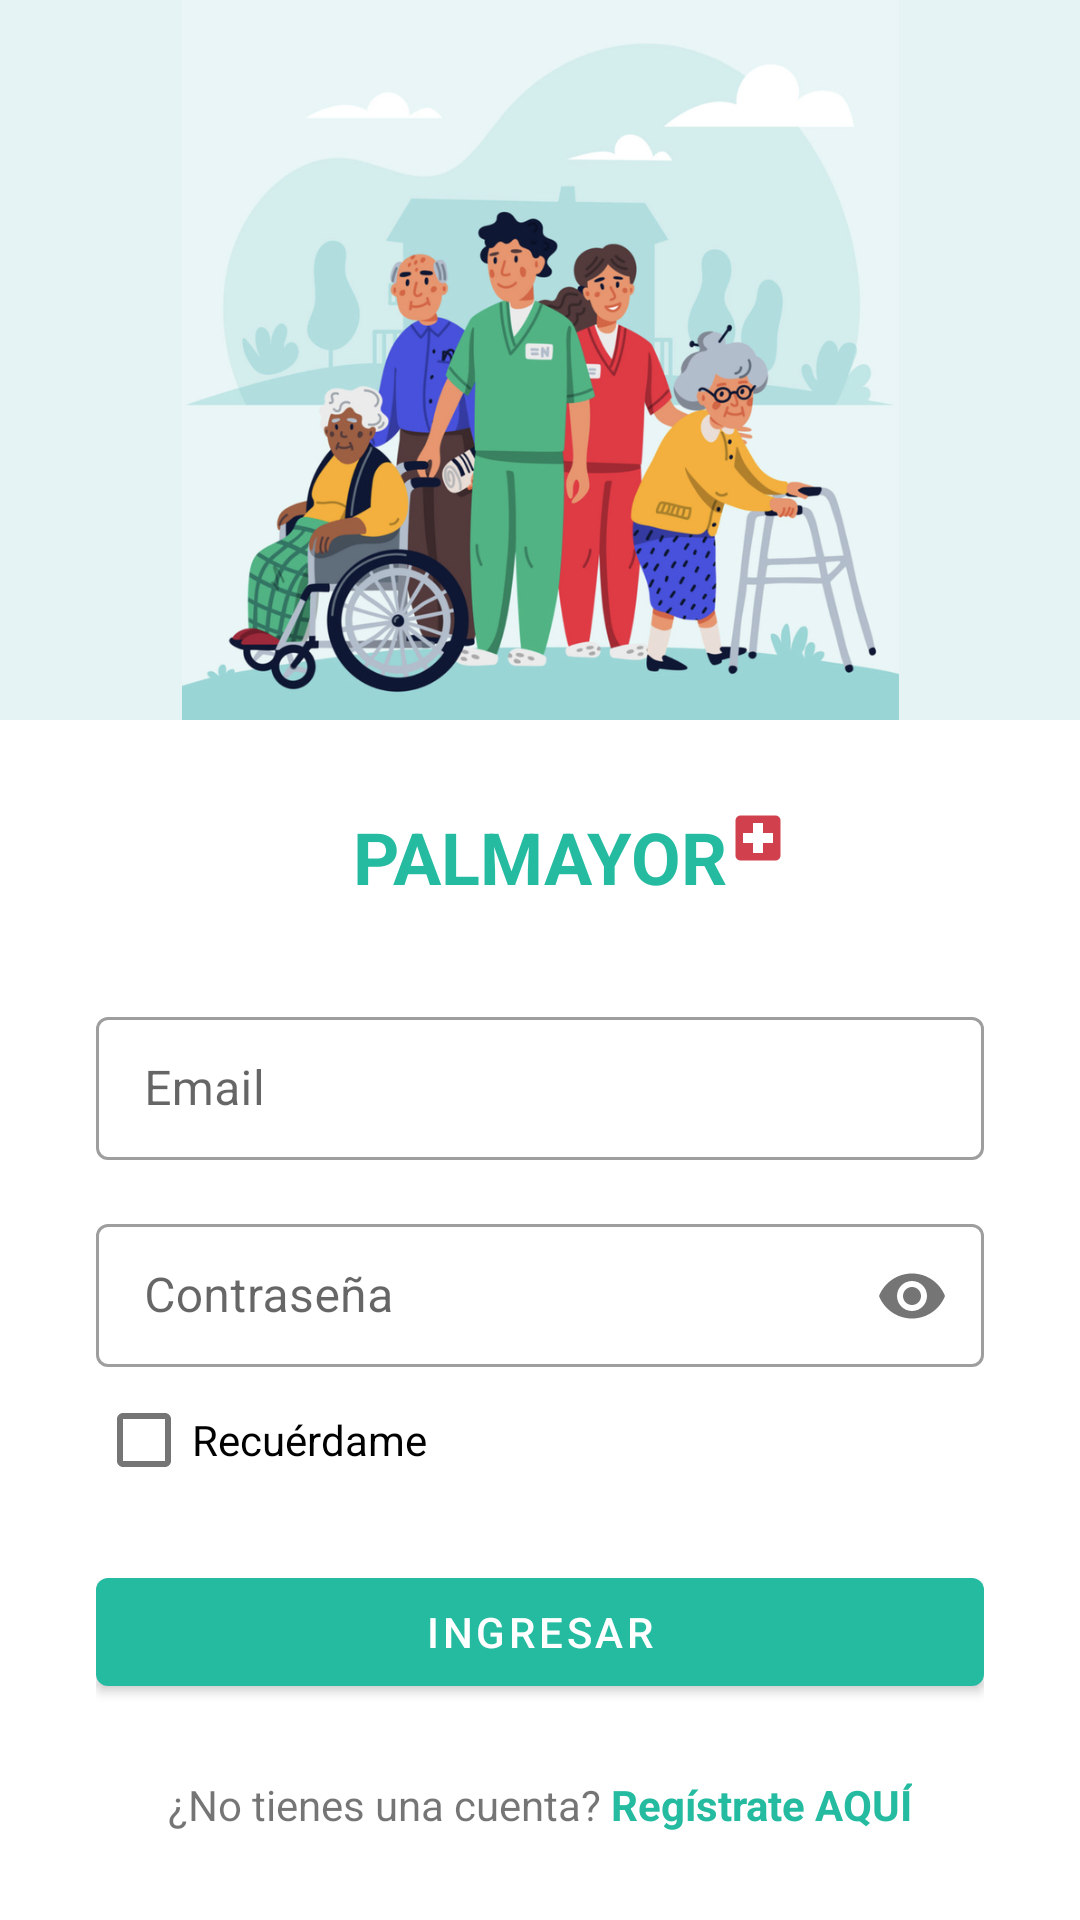

Locate icon controls on the screen. Image size 1080×1920, boxes as (x1, y1, x2, y2).
local hospital: (735, 815, 781, 861)
